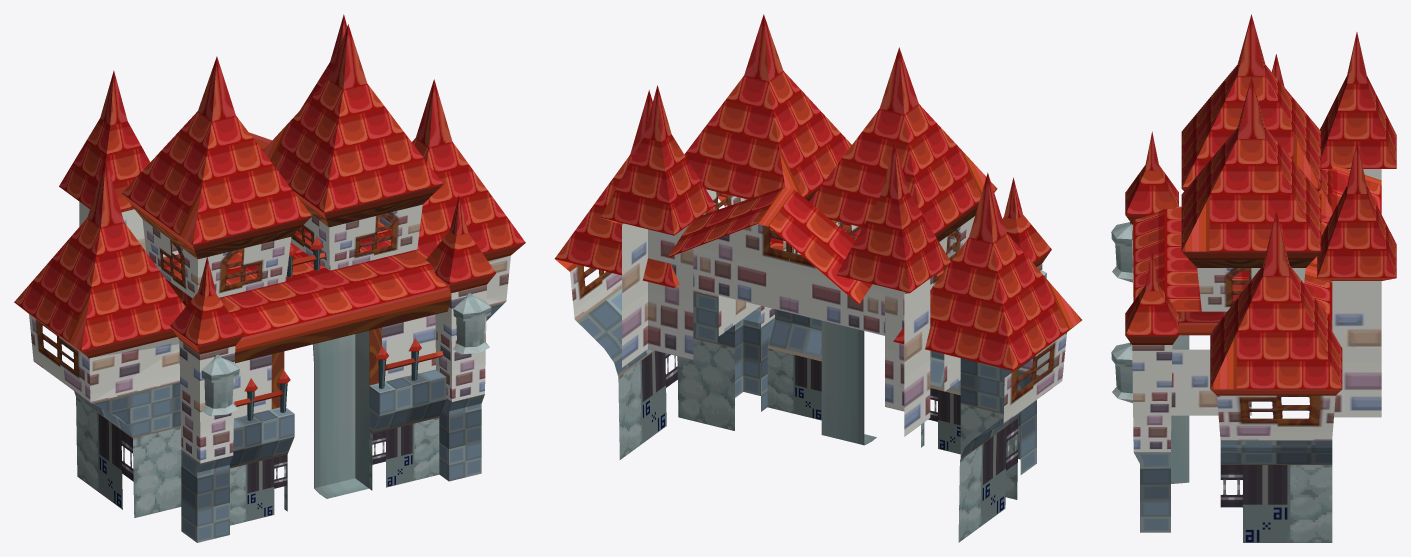
File: hobj_myhouse_max_02b.obj
3 views of the same model, side by side, from view 1: azimuth 30°, elevation 25°; view 2: azimuth 150°, elevation 25°; view 3: azimuth 270°, elevation 25° (orthographic). The views are drawn at different scales.
Visible parts, largest first — view 1: vsn_mesh_2__mesh_2_.001, vsn_mesh_0__mesh_0_.001, vsn_mesh_1__mesh_1_.001; view 2: vsn_mesh_2__mesh_2_.001, vsn_mesh_0__mesh_0_.001; view 3: vsn_mesh_2__mesh_2_.001, vsn_mesh_0__mesh_0_.001, vsn_mesh_1__mesh_1_.001.
Boxes of the visible parts, left/top/right/bottom form: vsn_mesh_2__mesh_2_.001: left=14, top=14, right=525, bottom=420; vsn_mesh_0__mesh_0_.001: left=29, top=194, right=510, bottom=542; vsn_mesh_1__mesh_1_.001: left=201, top=293, right=491, bottom=415; vsn_mesh_2__mesh_2_.001: left=554, top=14, right=1081, bottom=376; vsn_mesh_0__mesh_0_.001: left=570, top=189, right=1066, bottom=542; vsn_mesh_2__mesh_2_.001: left=1125, top=14, right=1396, bottom=395; vsn_mesh_0__mesh_0_.001: left=1132, top=169, right=1381, bottom=542; vsn_mesh_1__mesh_1_.001: left=1111, top=222, right=1132, bottom=403.
Size of the model in its own units: 1.63 by 1.49 by 0.9193.
Materials: 3 (3 with a texture image).
